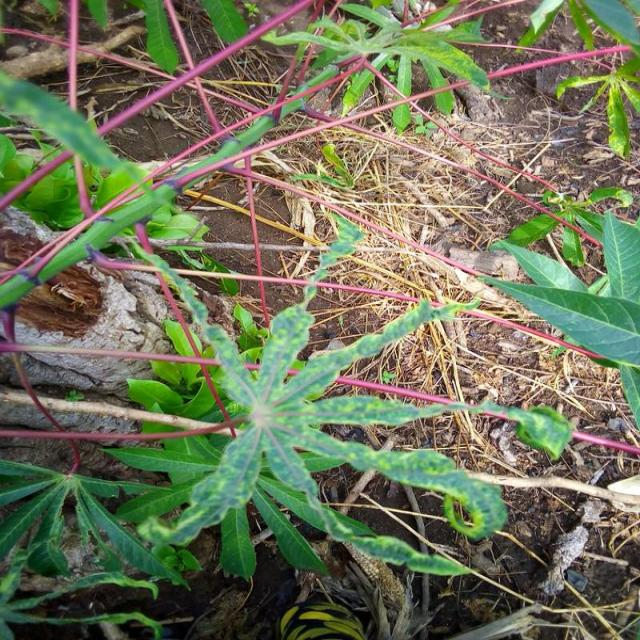cassava leaf: (122, 294, 510, 582)
